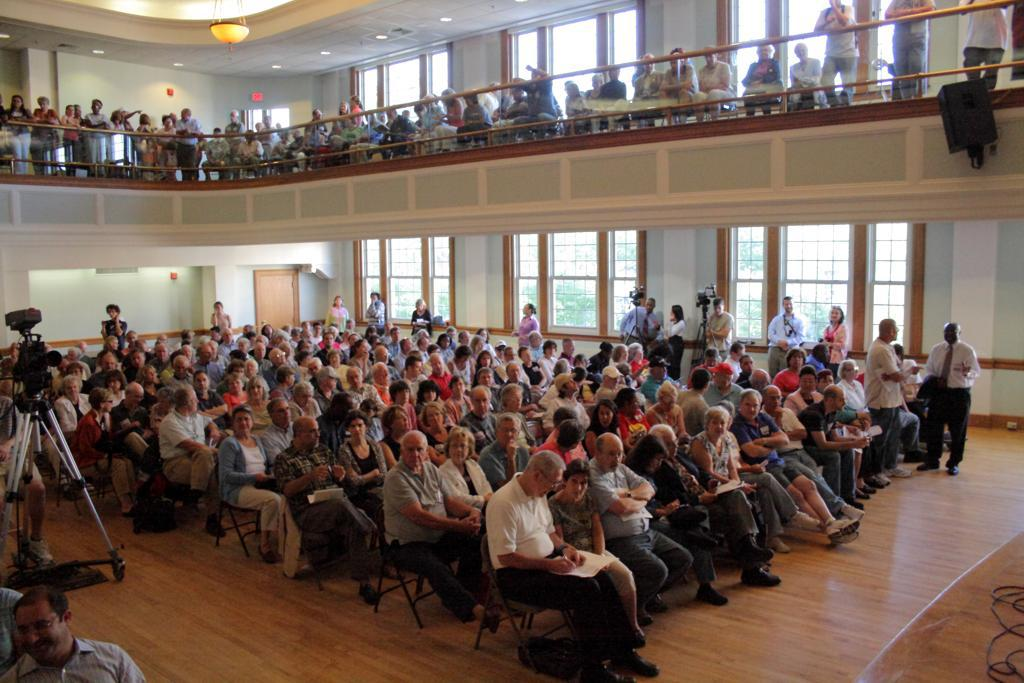face: (16, 606, 65, 660), (404, 436, 427, 468), (540, 473, 563, 498), (603, 446, 624, 470), (570, 475, 588, 502), (500, 423, 521, 446), (303, 422, 321, 448), (451, 438, 469, 462), (742, 397, 760, 420), (663, 433, 680, 457), (473, 393, 490, 417), (174, 358, 191, 381), (234, 413, 253, 433), (274, 404, 292, 425), (709, 418, 726, 438), (185, 393, 201, 413), (717, 371, 734, 389), (394, 412, 412, 429), (350, 420, 366, 439), (337, 399, 351, 420), (766, 391, 782, 409), (601, 406, 614, 427), (800, 376, 816, 393), (506, 393, 523, 409), (650, 455, 664, 474), (195, 374, 209, 393), (662, 397, 678, 413), (348, 371, 364, 387), (427, 409, 444, 424), (250, 383, 264, 401), (943, 328, 958, 344), (131, 387, 146, 403), (836, 392, 847, 413), (131, 354, 146, 369), (378, 366, 390, 384), (819, 378, 833, 393), (102, 357, 117, 371), (65, 382, 80, 396), (619, 368, 634, 382), (672, 54, 685, 70), (453, 381, 466, 397), (228, 380, 244, 393), (361, 406, 373, 423), (705, 49, 716, 67), (723, 410, 734, 428), (398, 390, 412, 404), (791, 353, 804, 368), (158, 348, 171, 363), (413, 362, 424, 379), (481, 373, 494, 387), (326, 374, 339, 388), (274, 350, 287, 364), (850, 363, 860, 381), (820, 348, 831, 364), (742, 360, 756, 372), (432, 358, 444, 372), (643, 58, 654, 73), (379, 348, 390, 363), (620, 346, 630, 362), (256, 344, 266, 360), (509, 368, 521, 381), (109, 379, 121, 392), (69, 368, 81, 381), (60, 363, 72, 376), (759, 378, 772, 390), (668, 308, 679, 322), (636, 347, 647, 361), (201, 348, 212, 362), (303, 392, 313, 407), (147, 368, 157, 383), (276, 335, 286, 350), (830, 310, 842, 322), (568, 380, 580, 392), (567, 86, 580, 97), (644, 298, 655, 311), (628, 397, 639, 410), (520, 352, 533, 363), (310, 364, 321, 377), (160, 396, 171, 409), (605, 347, 615, 361), (247, 362, 257, 376), (891, 324, 899, 341), (106, 394, 114, 411), (511, 83, 522, 95), (783, 301, 794, 313), (505, 350, 516, 362), (425, 390, 437, 401), (358, 343, 369, 355), (232, 366, 244, 377), (67, 351, 79, 362), (759, 47, 769, 60), (532, 71, 541, 85), (797, 48, 808, 59), (330, 354, 341, 365), (264, 326, 275, 337), (238, 343, 249, 354), (592, 78, 602, 90), (39, 99, 49, 111), (658, 366, 668, 378), (481, 356, 491, 368), (255, 338, 267, 348), (13, 97, 22, 110), (289, 374, 297, 388), (714, 304, 724, 315), (302, 343, 313, 353), (183, 349, 193, 360), (159, 335, 170, 345), (129, 335, 139, 346), (230, 355, 240, 366), (611, 374, 620, 386), (392, 329, 401, 341), (187, 330, 196, 342), (141, 115, 150, 127), (532, 338, 542, 348), (404, 341, 414, 351), (706, 357, 717, 366), (577, 360, 588, 369), (547, 346, 556, 357), (497, 349, 506, 360), (421, 341, 430, 352), (326, 334, 335, 345), (477, 340, 484, 353), (182, 113, 191, 123), (113, 112, 122, 122), (493, 83, 502, 93), (243, 328, 252, 338), (216, 306, 225, 316), (736, 350, 747, 358), (462, 334, 470, 345), (384, 322, 392, 333), (315, 324, 323, 335), (282, 344, 290, 355), (224, 332, 232, 343), (112, 337, 119, 349), (417, 109, 426, 118), (448, 332, 457, 341), (107, 309, 116, 318), (163, 118, 173, 126), (122, 111, 132, 119), (466, 98, 474, 108), (609, 70, 617, 80), (65, 107, 73, 117), (480, 331, 488, 341), (442, 338, 450, 348), (373, 339, 381, 349), (302, 357, 310, 367), (293, 333, 301, 343), (433, 349, 441, 359), (75, 104, 82, 115), (314, 110, 322, 119), (493, 113, 501, 122), (351, 336, 360, 344), (303, 334, 312, 342), (286, 326, 294, 335), (212, 130, 219, 140), (568, 345, 575, 355), (211, 329, 217, 340), (244, 132, 252, 140), (340, 105, 348, 113), (416, 305, 424, 313), (349, 321, 357, 329), (92, 102, 99, 111), (443, 99, 452, 106), (231, 113, 238, 121), (279, 133, 286, 141), (462, 356, 470, 363), (371, 331, 378, 339), (336, 300, 343, 308), (291, 130, 297, 139), (387, 111, 394, 118), (524, 307, 531, 314), (371, 295, 378, 302), (266, 118, 272, 126), (380, 113, 386, 121), (404, 112, 410, 120), (303, 323, 309, 331), (257, 123, 262, 132), (351, 100, 356, 109)
